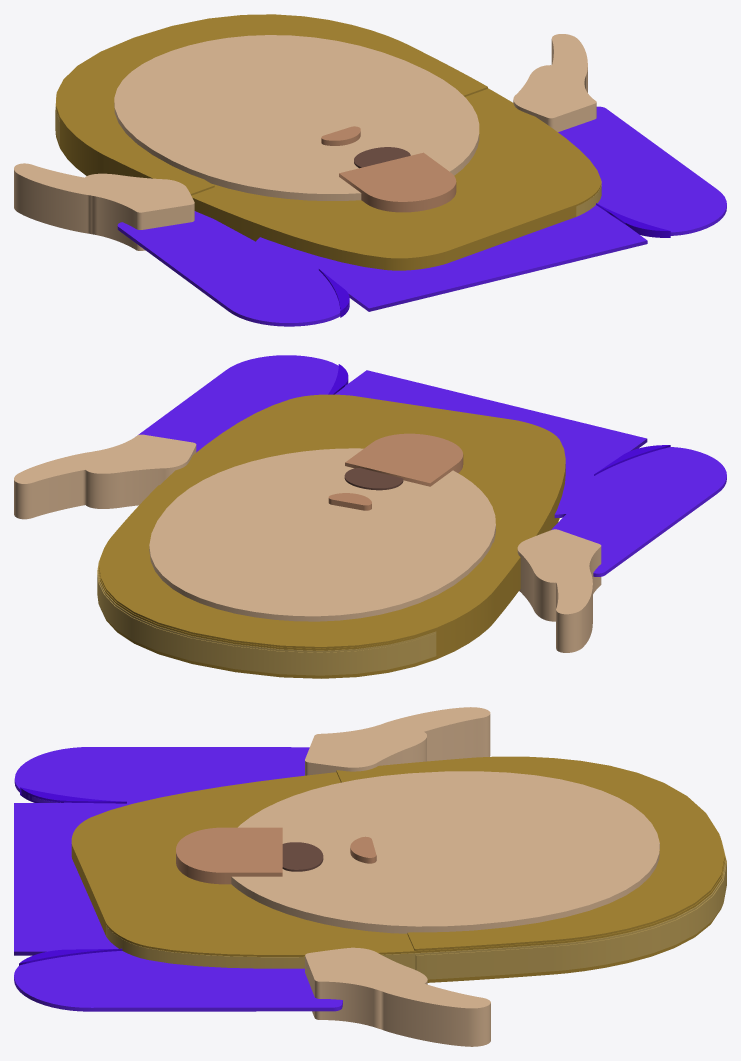
File: emoji_u1f937_1f3fc_200d_2640.glb
3 renders of one model, top to bottom at view 1: azimuth 30°, elevation 25°; view 2: azimuth 150°, elevation 25°; view 3: azimuth 270°, elevation 25°, orthographic. The views are drawn at different scales.
Visible parts, largest first — view 1: emoji_u1f937_1f3fc_200d_2640; view 2: emoji_u1f937_1f3fc_200d_2640; view 3: emoji_u1f937_1f3fc_200d_2640.
Boxes of the visible parts, <box> form: emoji_u1f937_1f3fc_200d_2640: <box>14,14,726,326</box>; emoji_u1f937_1f3fc_200d_2640: <box>14,355,726,678</box>; emoji_u1f937_1f3fc_200d_2640: <box>14,707,726,1046</box>.
Size of the model in its own units: 0.0335 by 0.003 by 0.0337.
